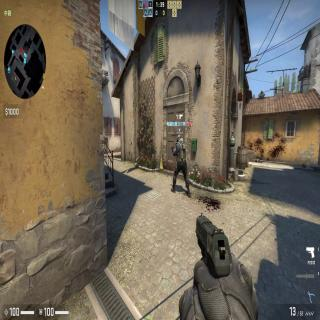CT-Body: (170, 135, 190, 198)
CT-Head: (176, 136, 182, 142)
